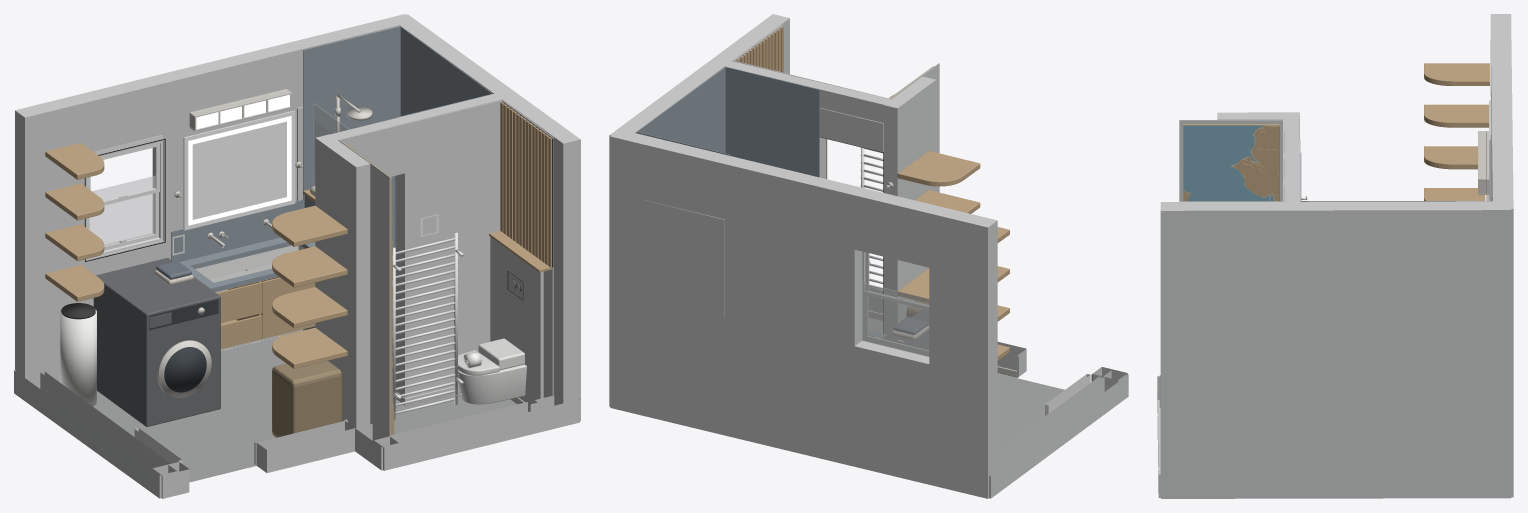
File: bathroom-cutaway.glb
3 views of the same model, side by side, from view 1: azimuth 30°, elevation 25°; view 2: azimuth 150°, elevation 25°; view 3: azimuth 270°, elevation 25° (orthographic). The views are drawn at different scales.
Parts seen in each view (by area): view 1: Component 409, Component 443, Component 172, Component 406, Component 033, Component 310, Component 133, Component 401, Component 404, Component 051, Component 444, Component 282 (+36 smaller); view 2: Component 409, Component 311, Component 376, Component 406, Component 394, Component 306, Component 408, Component 033, Component 402, Component 403, Component 452, Component 104 (+7 smaller); view 3: Component 403, Component 401, Component 451, Component 450, Component 409, Component 228, Component 402, Component 229, Component 227, Component 448, Component 444, Component 226 (+5 smaller).
Boxes of the visible parts, bbox=[...] form: Component 409: bbox=[15, 14, 405, 388]; Component 443: bbox=[404, 100, 501, 397]; Component 172: bbox=[93, 258, 220, 426]; Component 406: bbox=[315, 134, 370, 427]; Component 033: bbox=[93, 336, 396, 482]; Component 310: bbox=[303, 26, 400, 330]; Component 133: bbox=[184, 110, 295, 230]; Component 401: bbox=[493, 88, 580, 421]; Component 404: bbox=[374, 396, 579, 470]; Component 051: bbox=[490, 237, 543, 403]; Component 444: bbox=[338, 140, 390, 435]; Component 282: bbox=[272, 361, 341, 437]; Component 409: bbox=[610, 133, 997, 498]; Component 311: bbox=[725, 67, 819, 177]; Component 376: bbox=[644, 200, 724, 316]; Component 406: bbox=[884, 76, 936, 334]; Component 394: bbox=[862, 283, 929, 356]; Component 306: bbox=[637, 66, 725, 150]; Component 408: bbox=[989, 370, 1128, 498]; Component 033: bbox=[997, 373, 1064, 450]; Component 402: bbox=[714, 59, 903, 123]; Component 403: bbox=[609, 56, 732, 406]; Component 452: bbox=[997, 376, 1104, 470]; Component 104: bbox=[819, 108, 883, 152]; Component 403: bbox=[1282, 201, 1511, 498]; Component 401: bbox=[1160, 202, 1303, 498]; Component 451: bbox=[1183, 125, 1278, 201]; Component 450: bbox=[1183, 125, 1279, 200]; Component 409: bbox=[1490, 14, 1513, 497]; Component 228: bbox=[1424, 104, 1488, 127]; Component 402: bbox=[1284, 112, 1300, 208]; Component 229: bbox=[1424, 63, 1489, 85]; Component 227: bbox=[1424, 146, 1477, 169]; Component 448: bbox=[1236, 126, 1279, 199]; Component 444: bbox=[1179, 120, 1283, 201]; Component 226: bbox=[1424, 188, 1485, 200].
Size of the model in its own units: 3.63 by 2.49 by 2.76.
